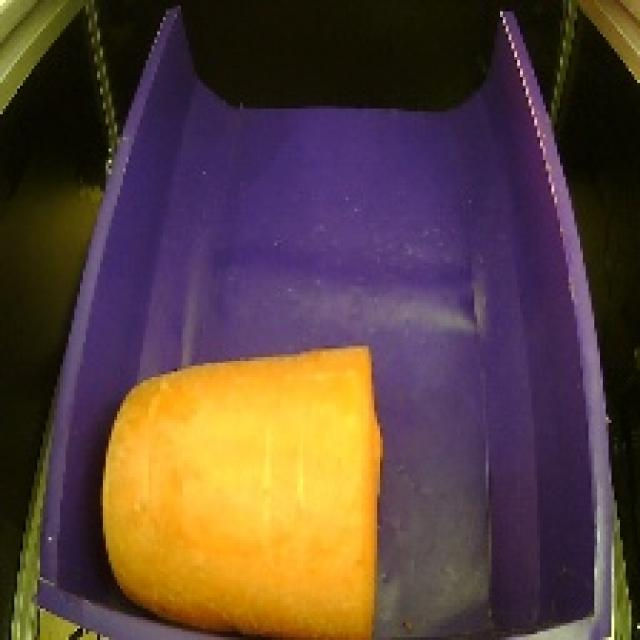carrots: (86, 339, 398, 640)
